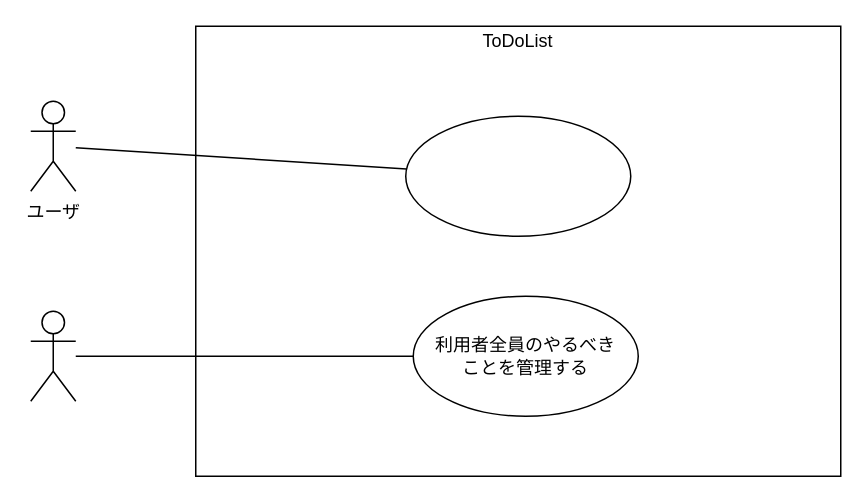
Some shapes in this 867 by 503 pixel diagram are drawn without their labels. Here are the shapes that lost their labels. From the top down, the box of each, then its label:
(404, 115, 631, 236): やるべきことを管理する
(29, 310, 76, 401): 管理者
